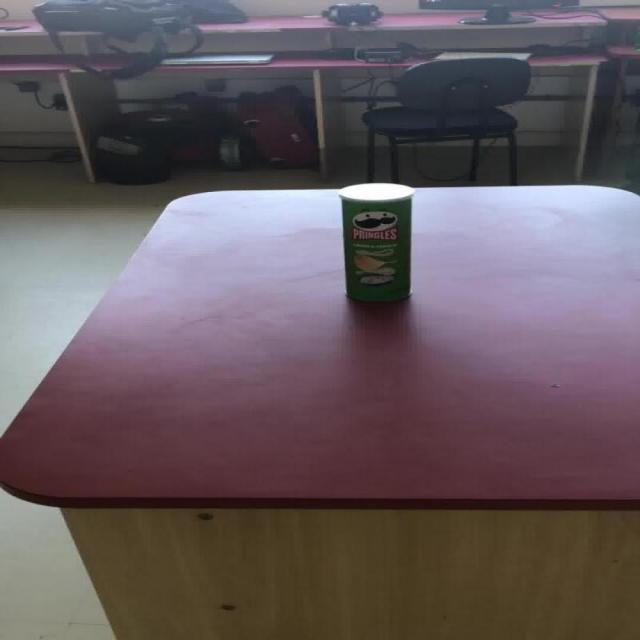Pringles: (336, 182, 413, 300)
